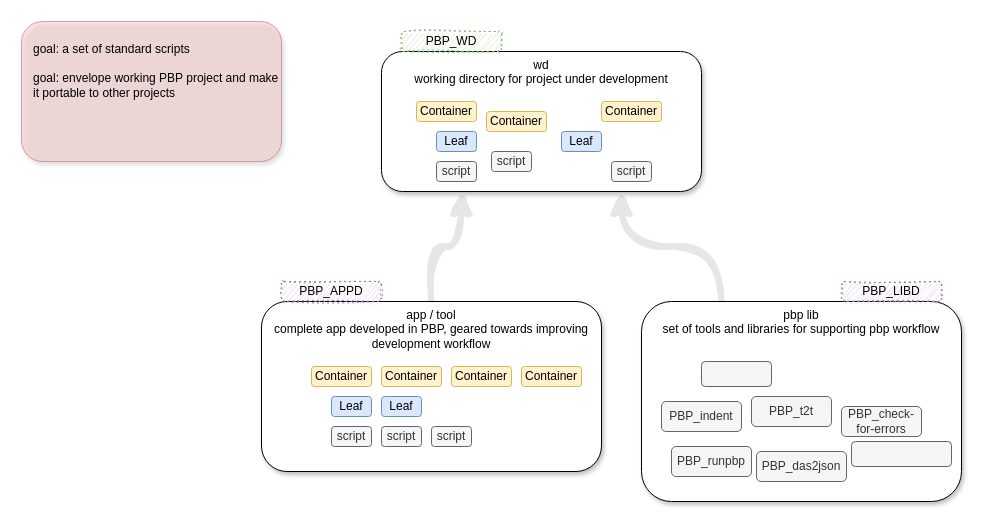
This 985x526 diagram has some shape labels left out. Each missing label, with the centre of its shape:
PBP_dtree: point 736,373
PBP_splitoutputs: point 901,453
